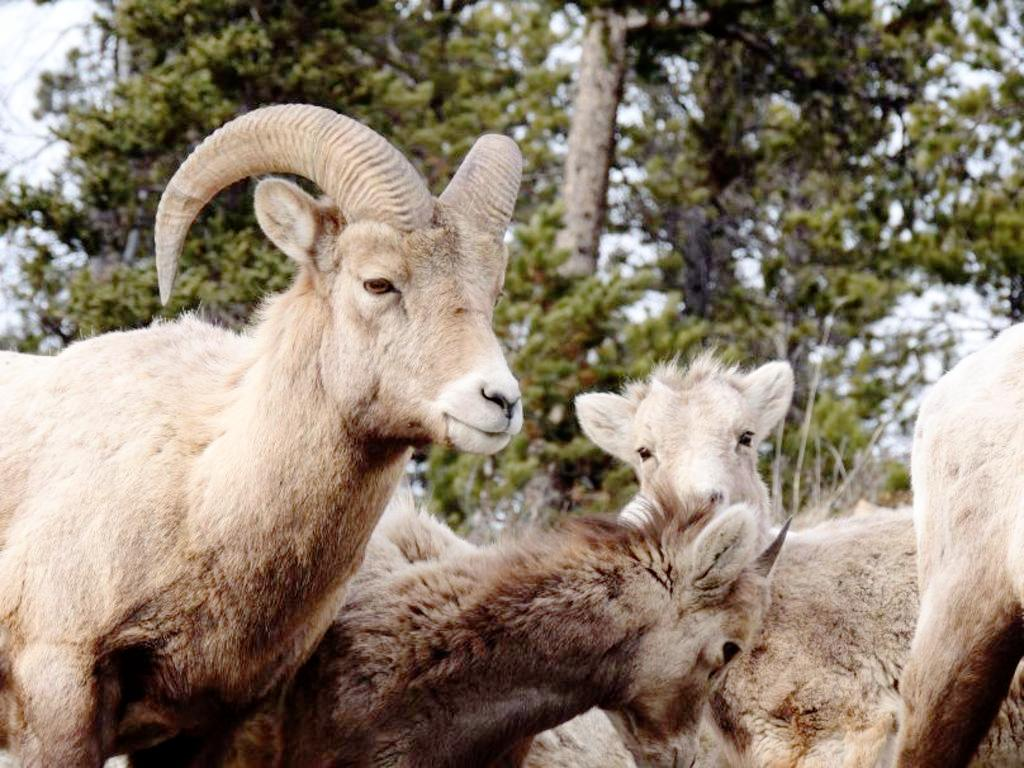Sheep: (0, 101, 541, 768)
